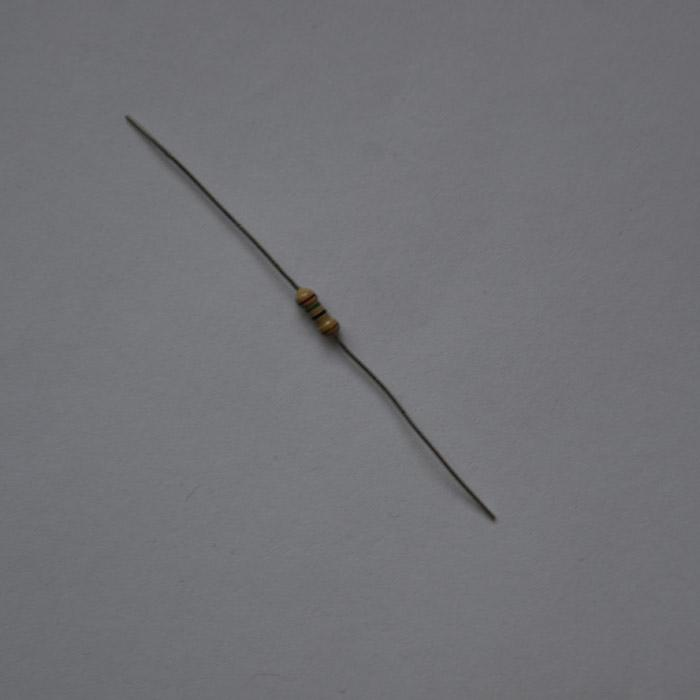resistor: (292, 284, 338, 338)
